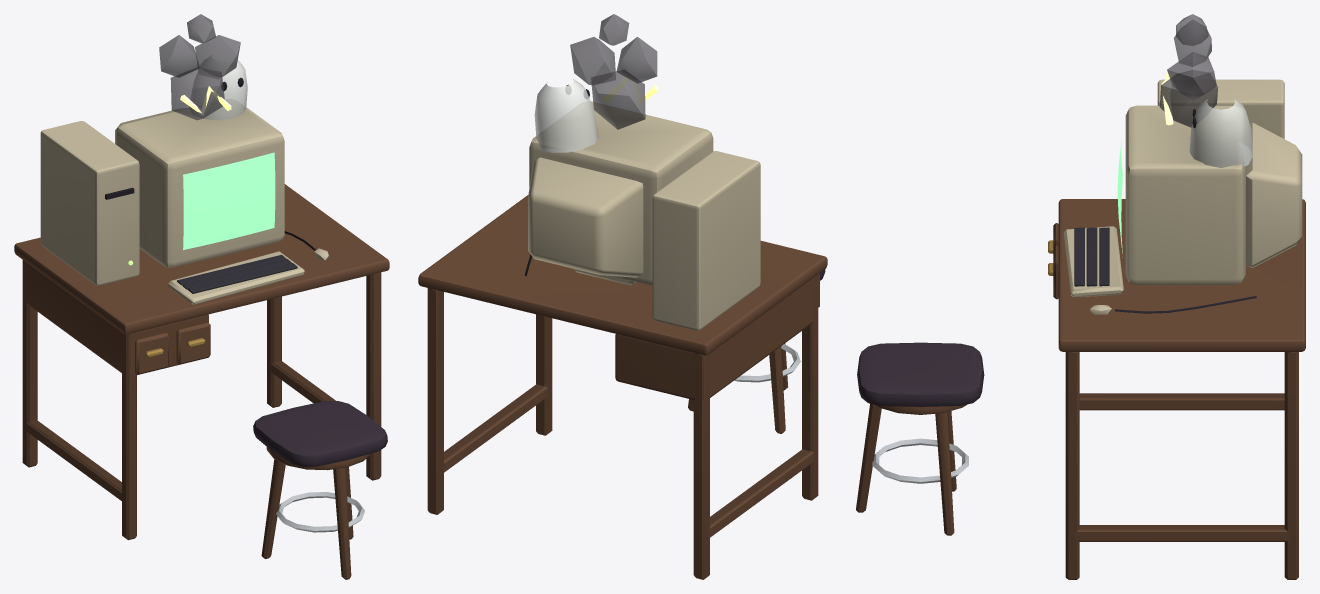
The model's file is desk_hauntedpc.glb.
3 renders of one model, left to right at view 1: azimuth 30°, elevation 25°; view 2: azimuth 150°, elevation 25°; view 3: azimuth 270°, elevation 25°, orthographic. The views are drawn at different scales.
Parts seen in each view (by area): view 1: desk_hauntedpc, screen, broken; view 2: desk_hauntedpc, broken; view 3: desk_hauntedpc, broken.
Part boxes in pixels (x1,y1,x2,y2): desk_hauntedpc: (14,56,389,579); screen: (183,152,275,249); broken: (159,14,240,120); desk_hauntedpc: (418,78,827,579); broken: (570,14,658,129); desk_hauntedpc: (856,79,1305,579); broken: (1159,14,1218,127).
Size of the model in its own units: 0.96 by 1.56 by 1.27.
